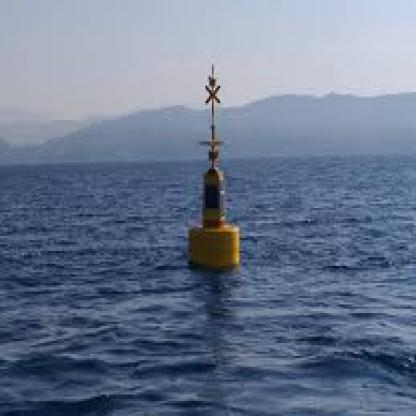buoy: (183, 56, 247, 276)
